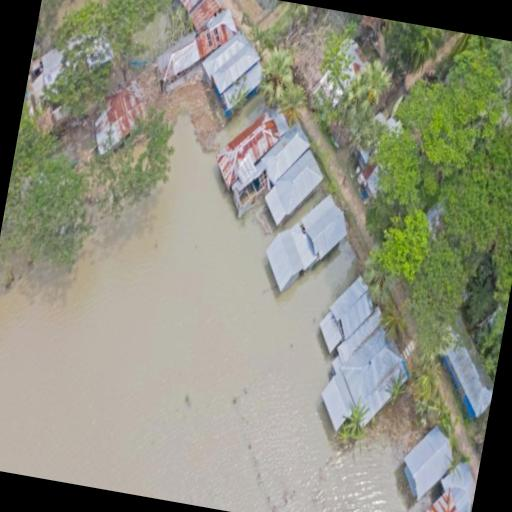flood: (0, 113, 409, 512)
house: (304, 266, 428, 454), (254, 184, 353, 304), (210, 102, 289, 204), (193, 28, 271, 119), (254, 142, 330, 232), (391, 414, 460, 506), (429, 342, 499, 420), (252, 119, 312, 189), (405, 485, 468, 512)
